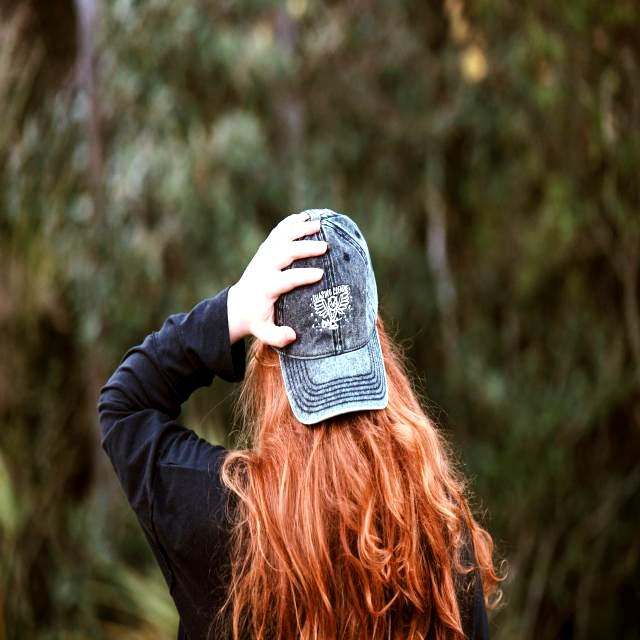no_hard_hat: (274, 209, 387, 424)
person: (99, 210, 498, 640)
